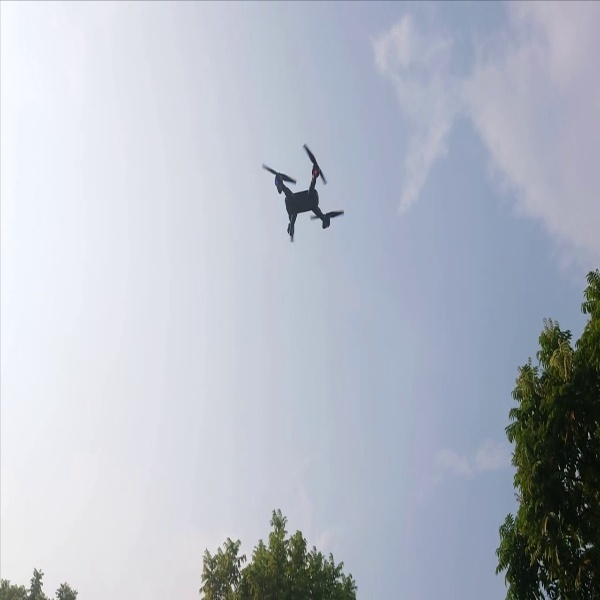drone: (259, 141, 346, 247)
